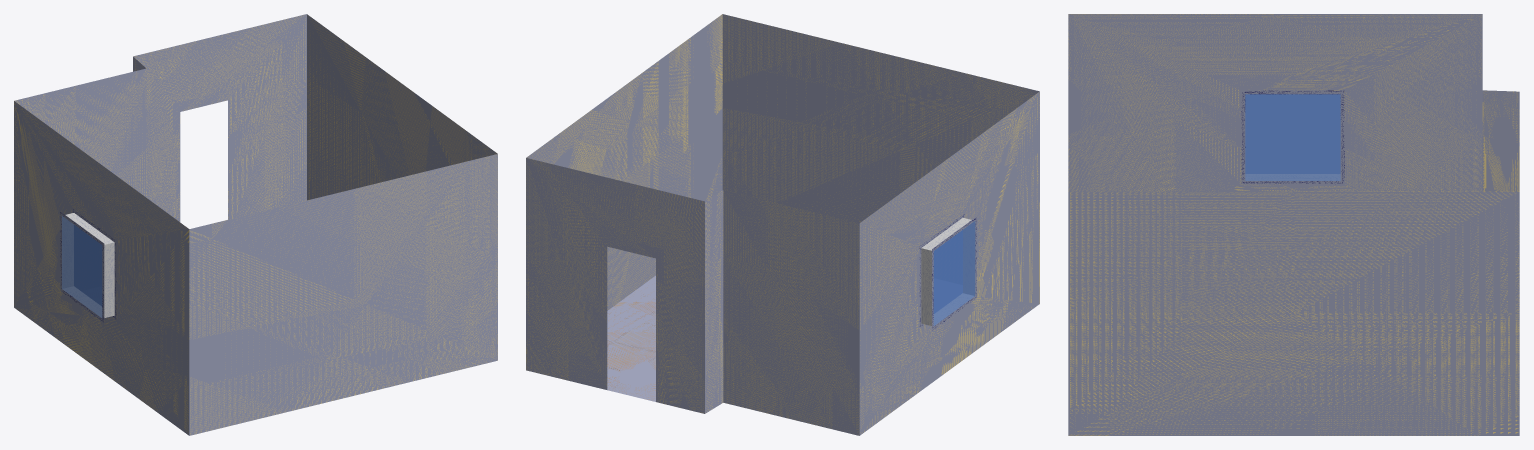
File: DES002.obj
3 renders of one model, left to right at view 1: azimuth 30°, elevation 25°; view 2: azimuth 150°, elevation 25°; view 3: azimuth 270°, elevation 25°, orthographic. The views are drawn at different scales.
Visible parts, largest first — view 1: Mesh5 DES002 Model, Mesh1 Group1 DES002 Model; view 2: Mesh5 DES002 Model, Mesh1 Group1 DES002 Model; view 3: Mesh5 DES002 Model, Mesh1 Group1 DES002 Model.
Part boxes in pixels (x1,y1,x2,y2): Mesh5 DES002 Model: (14,14,497,435); Mesh1 Group1 DES002 Model: (60,208,116,322); Mesh5 DES002 Model: (526,14,1039,435); Mesh1 Group1 DES002 Model: (919,213,976,330); Mesh5 DES002 Model: (1068,14,1519,435); Mesh1 Group1 DES002 Model: (1241,90,1344,184).
Size of the model in its own units: 4.87 by 3 by 5.03.
6 materials, 1 textured.
